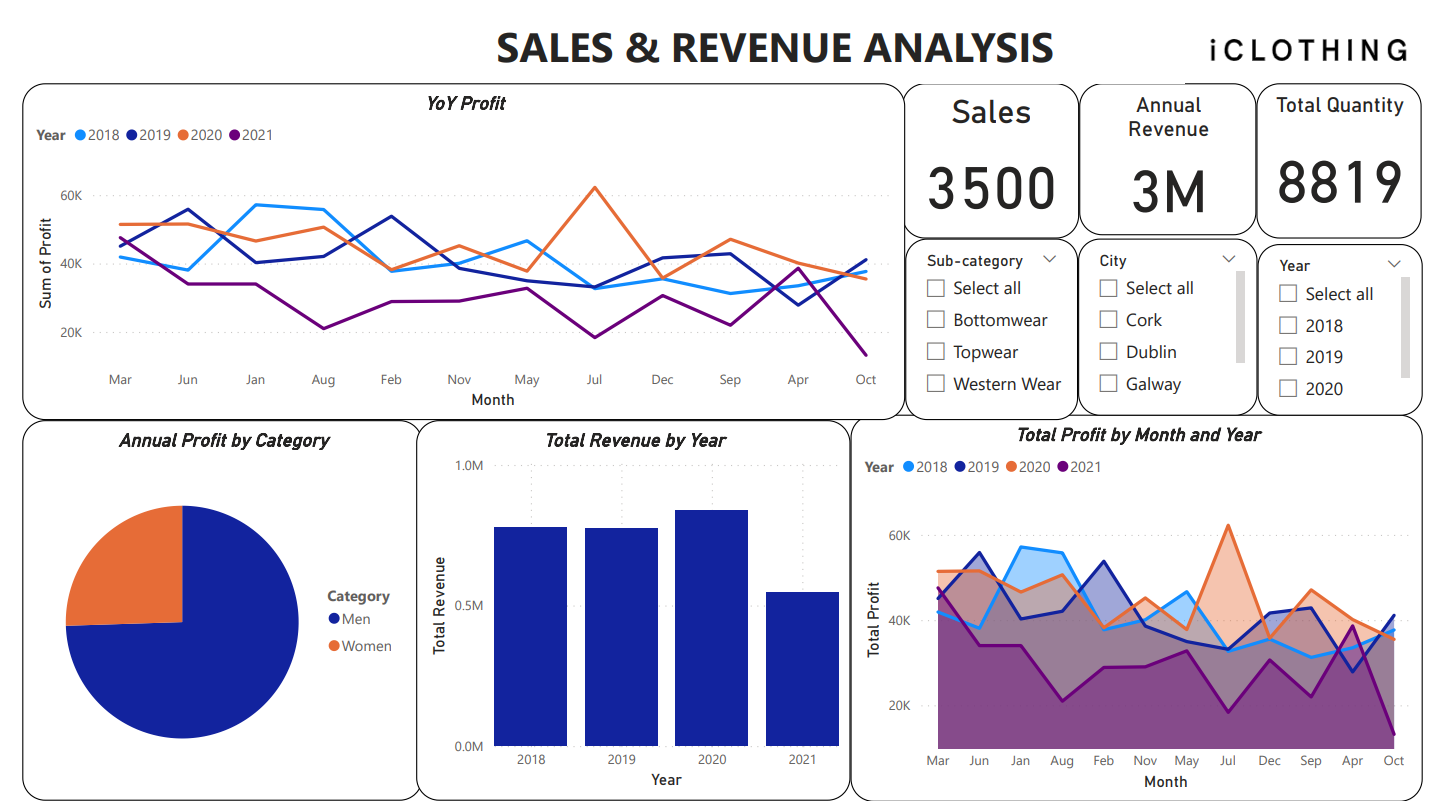

The page's visual inventory and layout, read from the dashboard file:
{"tool":"powerbi","page":{"name":"Sales & Revenue Analysis","canvas":[1280,720],"ordinal":0},"visuals":[{"type":"card","title":"Sales","fields":{"Values":["CountNonNull(iclothing sales.Order ID)"]},"box":[804.1,64.5,161.9,141.3],"z":0},{"type":"areaChart","fields":{"Category":["iclothing calender.Month"],"Y":["Sum(iclothing sales.Profit)"],"Series":["iclothing calender.Year"]},"box":[757,367.4,523.3,353.5],"z":2000},{"type":"slicer","fields":{"Values":["iclothing calender.Year"]},"box":[1129.3,211.3,150.9,156.4],"z":3000},{"type":"pieChart","fields":{"Category":["iclothing products.Category"],"Y":["Sum(iclothing sales.Profit)"]},"box":[0,371.9,366.4,348.5],"z":4000},{"type":"image","box":[1061.6,0,218.6,64],"z":5000},{"type":"slicer","fields":{"Values":["iclothing products.Sub-category"]},"box":[806.9,205.8,157.8,166],"z":6000},{"type":"slicer","fields":{"Values":["iclothing customers.City"]},"box":[964.7,205.8,164.7,161.9],"z":7000},{"type":"lineClusteredColumnComboChart","fields":{"Category":["iclothing calender.Year"],"Y":["Sum(iclothing sales.Revenue)"]},"box":[359.5,371.9,397.9,348.5],"z":8000},{"type":"card","title":"Annual Revenue","fields":{"Values":["Sum(iclothing sales.Revenue)"]},"box":[966,64.5,161.9,138.6],"z":9000},{"type":"card","title":"Total Quantity","fields":{"Values":["Sum(iclothing sales.Quantity)"]},"box":[1128,64.5,150.9,141.3],"z":10000},{"type":"textbox","box":[8.2,0,1053.9,64.5],"z":11000},{"type":"lineChart","title":"YoY Profit","fields":{"Category":["iclothing calender.Month"],"Series":["iclothing calender.Year"],"Y":["Sum(iclothing sales.Profit)"]},"box":[0,64,807,308.1],"z":12000}]}

Visuals, with their boxes in screenshot pixels (x1, y1, x2, y2), scaled from the page's 1280x720 canvas onto the 1441x812 screenshot:
"Sales" card: [905, 73, 1088, 232]
areaChart - iclothing calender.Month x Sum(iclothing sales.Profit): [852, 414, 1440, 811]
slicer - iclothing calender.Year: [1271, 238, 1440, 415]
pieChart - iclothing products.Category x Sum(iclothing sales.Profit): [0, 419, 412, 811]
image: [1195, 0, 1440, 72]
slicer - iclothing products.Sub-category: [908, 232, 1086, 419]
slicer - iclothing customers.City: [1086, 232, 1271, 415]
lineClusteredColumnComboChart - iclothing calender.Year x Sum(iclothing sales.Revenue): [405, 419, 853, 811]
"Annual Revenue" card: [1088, 73, 1270, 229]
"Total Quantity" card: [1270, 73, 1440, 232]
textbox: [9, 0, 1196, 73]
"YoY Profit" lineChart: [0, 72, 909, 420]
